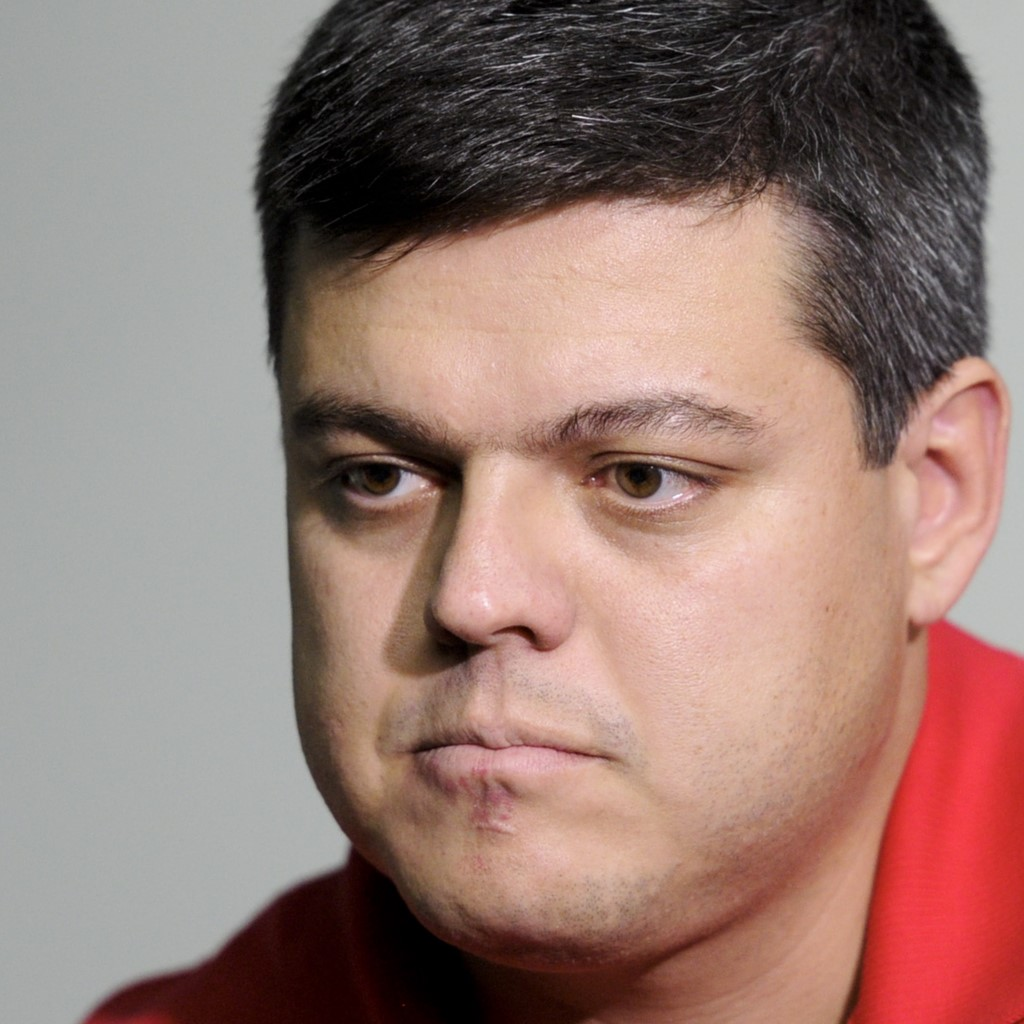sin_mascara: (276, 140, 915, 935)
